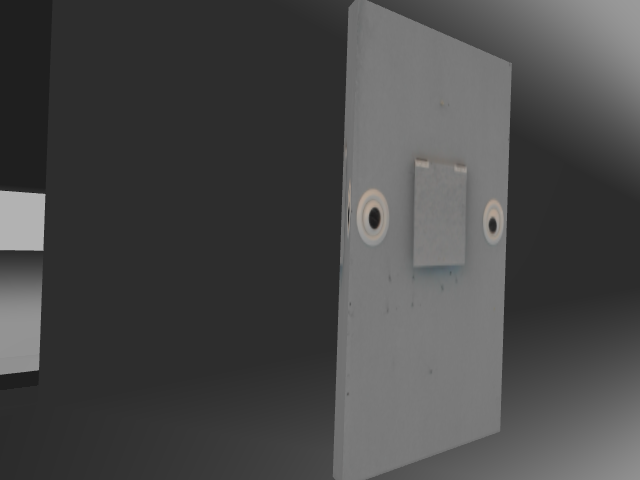facade: (353, 155, 506, 272)
